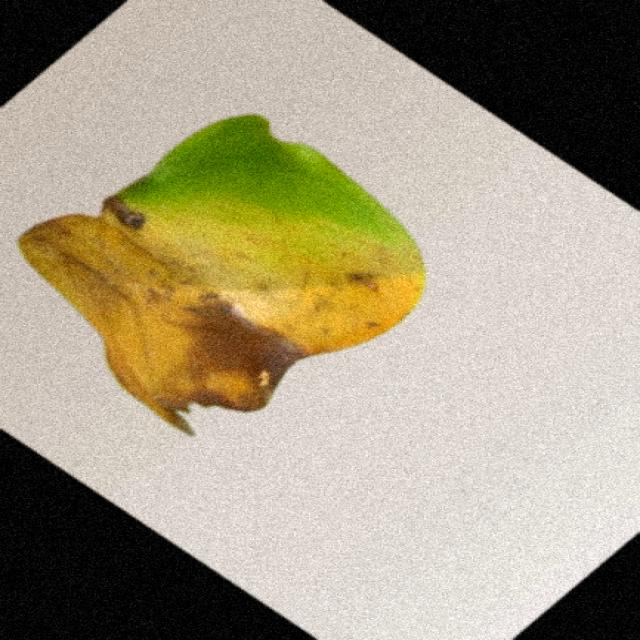daun berpenyakit kuning: (20, 115, 425, 433)
